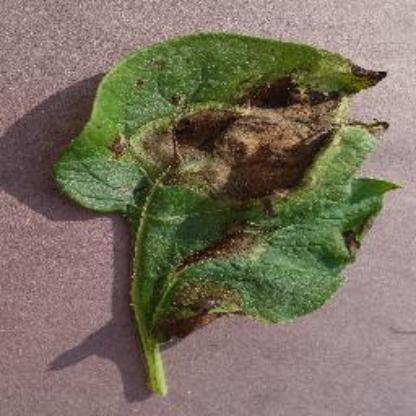Late-Blight: (31, 19, 391, 415)
